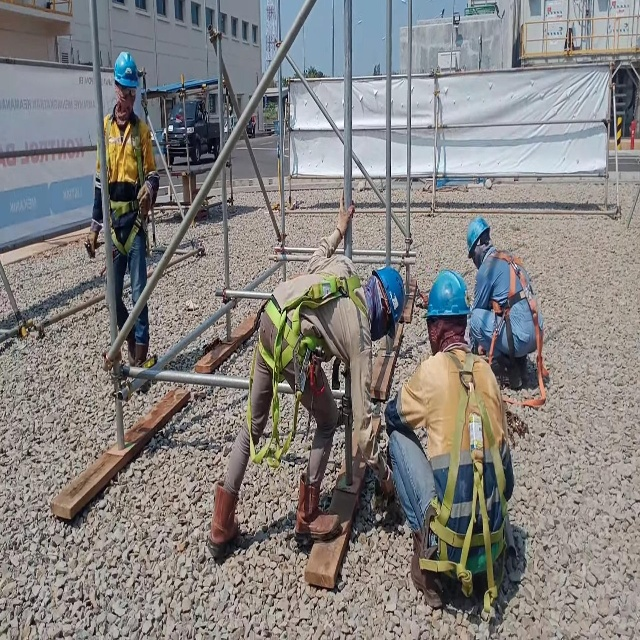Arnes_seguridad: (245, 274, 368, 475), (419, 351, 506, 624), (487, 244, 551, 412), (98, 108, 150, 253)
